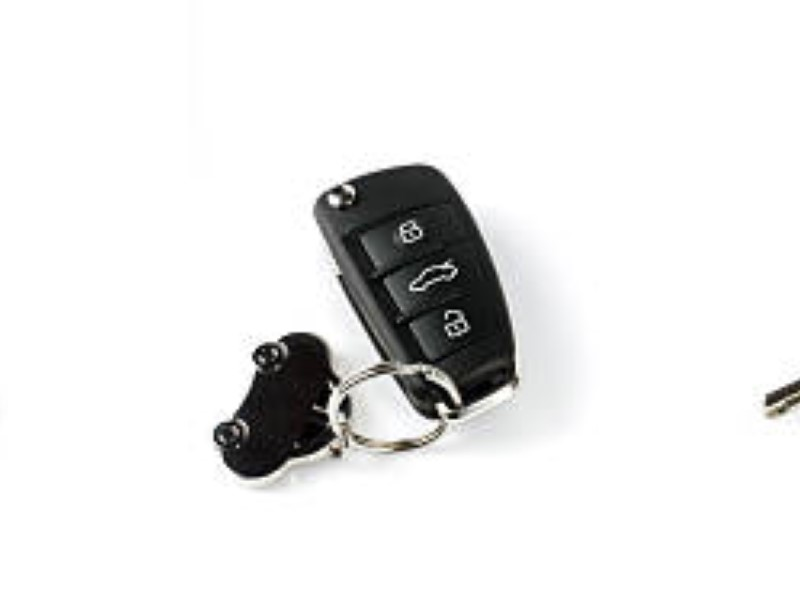carkey: (309, 156, 522, 428)
